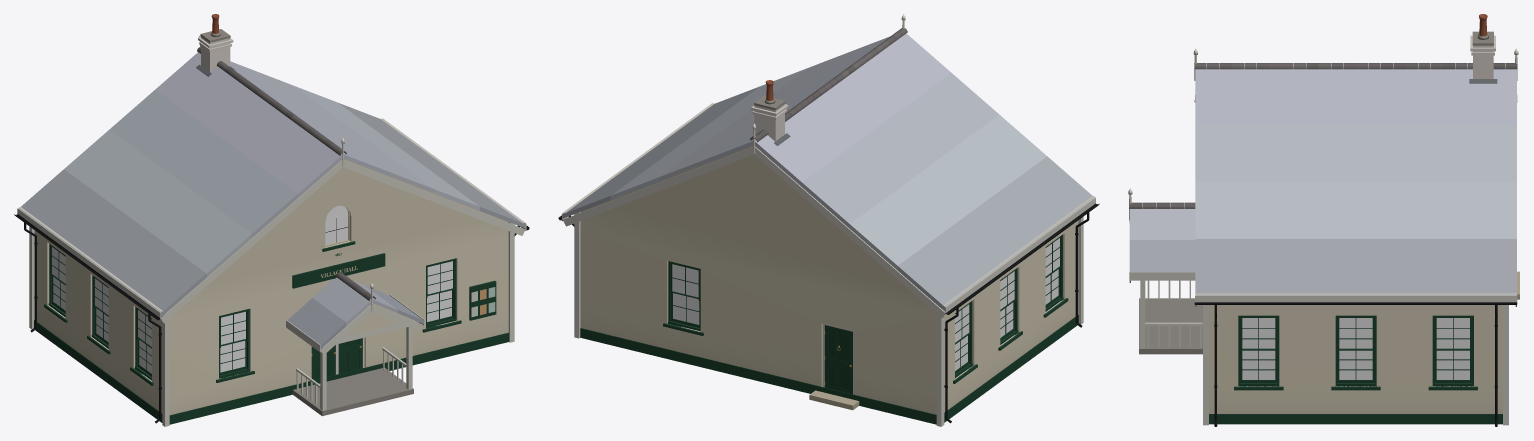
The model's file is town_village_hall_a.glb.
3 renders of one model, left to right at view 1: azimuth 30°, elevation 25°; view 2: azimuth 150°, elevation 25°; view 3: azimuth 270°, elevation 25°, orthographic. The views are drawn at different scales.
Visible parts, largest first — view 1: body; view 2: body; view 3: body.
Boxes of the visible parts, bbox=[...] form: body: bbox=[14, 14, 529, 426]; body: bbox=[558, 14, 1099, 426]; body: bbox=[1128, 14, 1519, 426].
Size of what is drawn, in the model's own units: 12.99 by 9.24 by 10.47.
